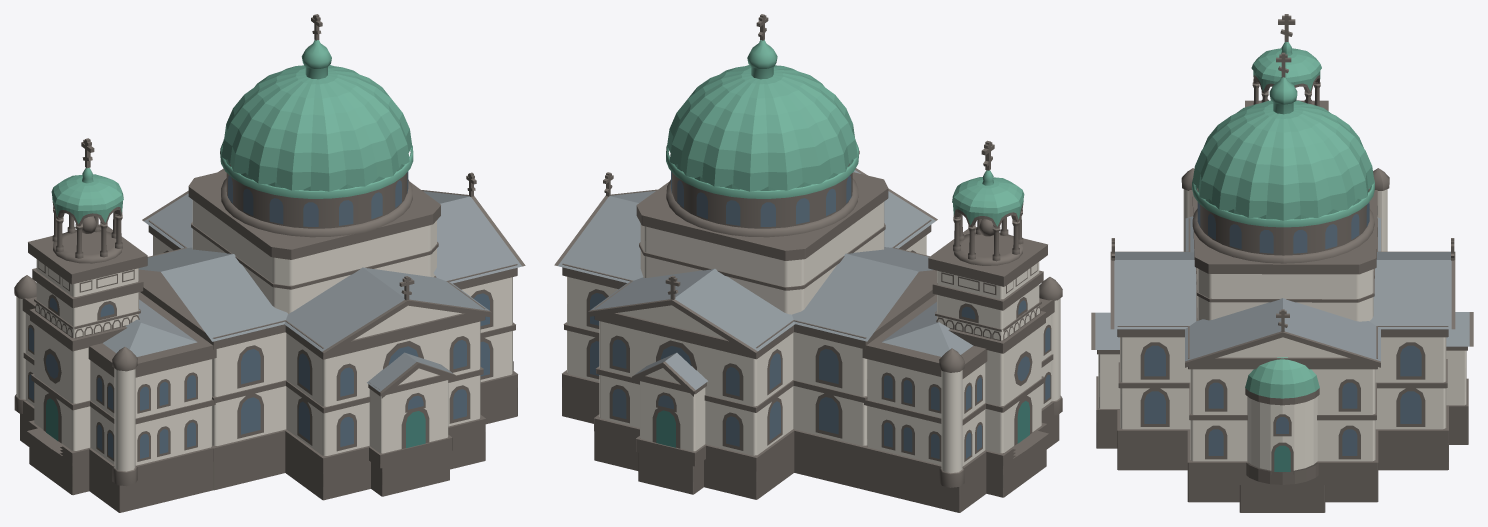
Rendered from tokyo-nikolai-cathedral.glb.
3 renders of one model, left to right at view 1: azimuth 30°, elevation 25°; view 2: azimuth 150°, elevation 25°; view 3: azimuth 270°, elevation 25°, orthographic. The views are drawn at different scales.
Parts seen in each view (by area): view 1: Holy Resurrection Cathedral (Nikolai-dō); view 2: Holy Resurrection Cathedral (Nikolai-dō); view 3: Holy Resurrection Cathedral (Nikolai-dō).
Part boxes in pixels (x1,y1,x2,y2): Holy Resurrection Cathedral (Nikolai-dō): (14, 14, 525, 512); Holy Resurrection Cathedral (Nikolai-dō): (554, 14, 1062, 512); Holy Resurrection Cathedral (Nikolai-dō): (1091, 14, 1473, 512).
Size of the model in its own units: 45.9 by 39.1 by 35.7.
